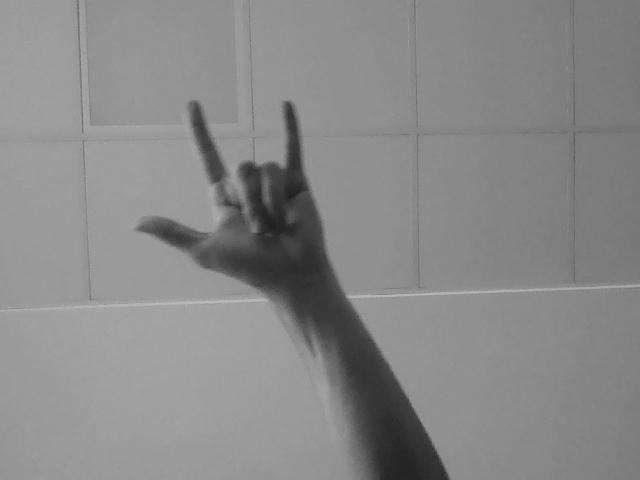I_Love_You: (133, 82, 355, 303)
